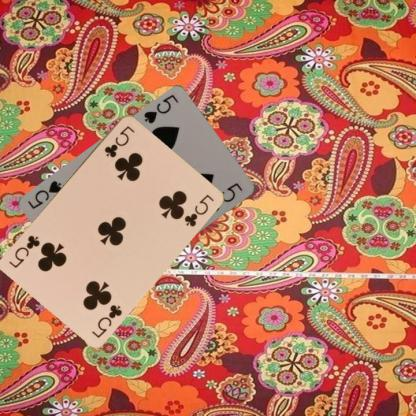5c: (89, 302, 124, 339), (101, 122, 136, 158)
5s: (141, 92, 180, 125)
